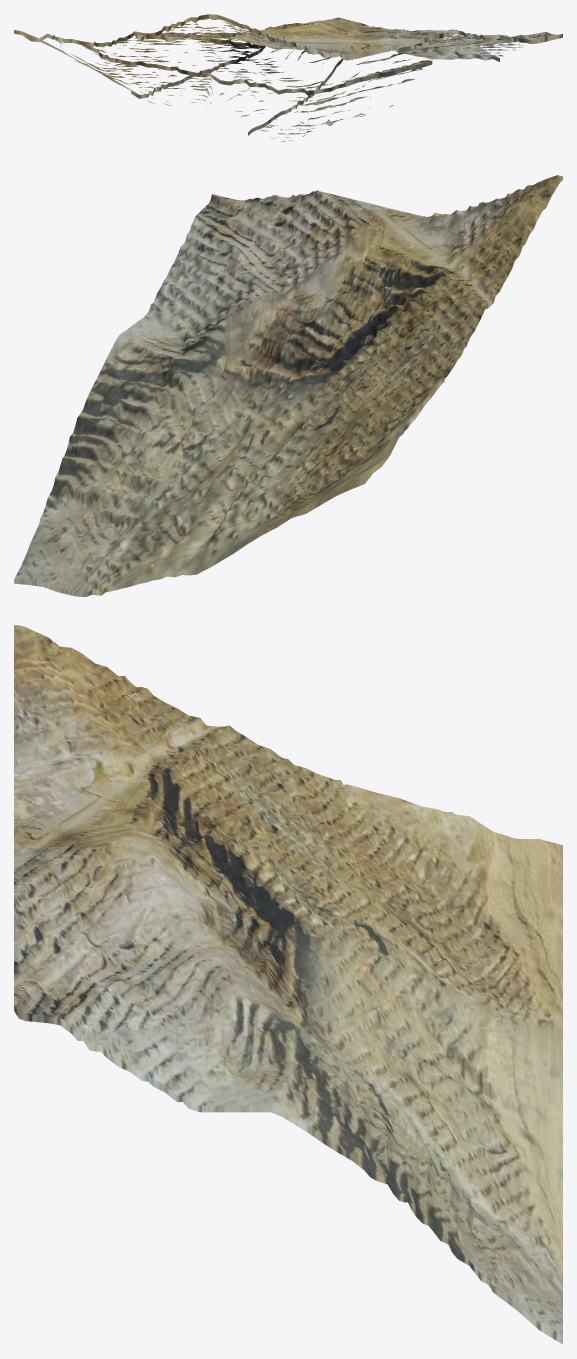
The picture shows the model from 3 angles, top to bottom: view 1: azimuth 30°, elevation 25°; view 2: azimuth 150°, elevation 25°; view 3: azimuth 270°, elevation 25°; orthographic projection. The views are drawn at different scales.
Visible parts, largest first — view 1: l1-0-0; view 2: l1-0-0; view 3: l1-0-0.
Boxes of the visible parts, x1=… form: l1-0-0: x1=14, y1=14, x2=562, y2=141; l1-0-0: x1=14, y1=175, x2=562, y2=596; l1-0-0: x1=14, y1=625, x2=562, y2=1344.
Bounding box in the file's own units: 768 × 728 × 751.
1 material, 1 textured.
